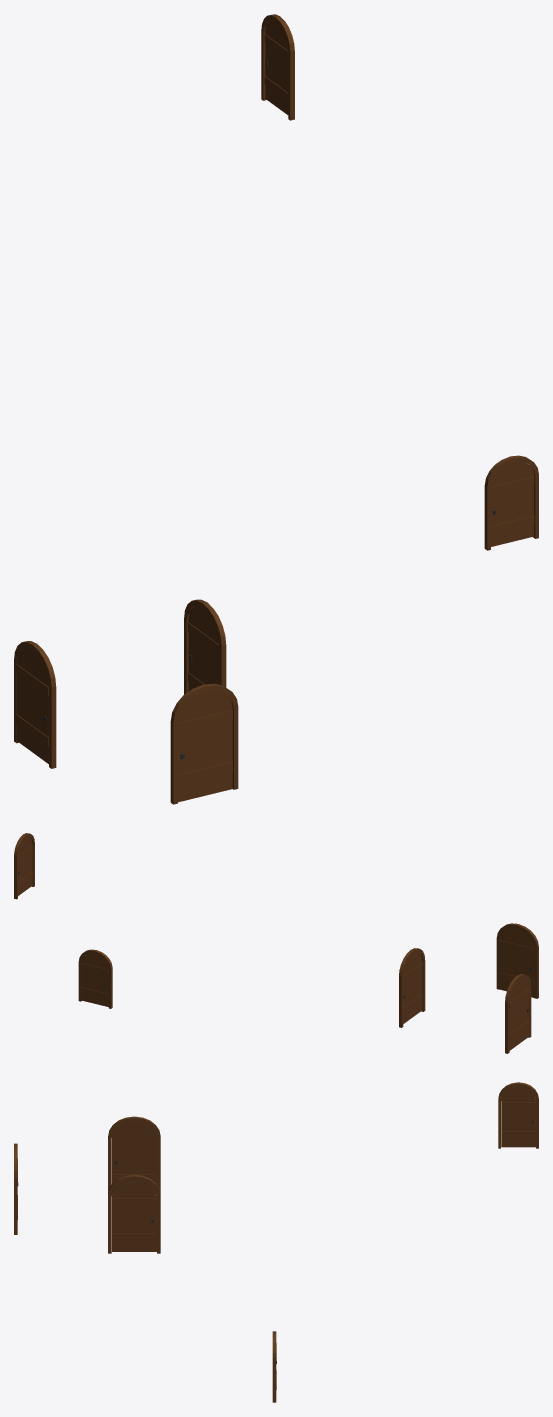
Rendered from hauntedcastle_passable.glb.
The picture shows the model from 3 angles, top to bottom: view 1: azimuth 30°, elevation 25°; view 2: azimuth 150°, elevation 25°; view 3: azimuth 270°, elevation 25°; orthographic projection. The views are drawn at different scales.
Visible parts, largest first — view 1: Keep.Level1.Door_passable, Keep.Level1.Doorframe_passable.003, Keep.Level1.Doorframe_passable.002, Keep.Level1.Doorframe_passable.001, Keep.Level1.Doorframe_passable.004, Keep.Level1.Doorframe_passable; view 2: Keep.Level1.Door_passable, Keep.Level1.Doorframe_passable.002, Keep.Level1.Doorframe_passable.003, Keep.Level1.Doorframe_passable.001, Keep.Level1.Doorframe_passable.004, Keep.Level1.Doorframe_passable; view 3: Keep.Level1.Doorframe_passable.001, Keep.Level1.Doorframe_passable.003, Keep.Level1.Doorframe_passable.004.
Boxes of the visible parts, left/top/right/bottom form: Keep.Level1.Door_passable: left=178, top=691, right=232, bottom=802; Keep.Level1.Doorframe_passable.003: left=14, top=641, right=56, bottom=768; Keep.Level1.Doorframe_passable.002: left=484, top=455, right=538, bottom=550; Keep.Level1.Doorframe_passable.001: left=184, top=599, right=226, bottom=694; Keep.Level1.Doorframe_passable.004: left=261, top=14, right=294, bottom=120; Keep.Level1.Doorframe_passable: left=170, top=683, right=238, bottom=804; Keep.Level1.Door_passable: left=499, top=928, right=534, bottom=997; Keep.Level1.Doorframe_passable.002: left=78, top=949, right=112, bottom=1008; Keep.Level1.Doorframe_passable.003: left=505, top=974, right=531, bottom=1053; Keep.Level1.Doorframe_passable.001: left=399, top=948, right=425, bottom=1027; Keep.Level1.Doorframe_passable.004: left=14, top=833, right=34, bottom=899; Keep.Level1.Doorframe_passable: left=496, top=923, right=538, bottom=998; Keep.Level1.Doorframe_passable.001: left=108, top=1174, right=160, bottom=1253; Keep.Level1.Doorframe_passable.003: left=108, top=1116, right=160, bottom=1193; Keep.Level1.Doorframe_passable.004: left=498, top=1082, right=538, bottom=1148.
Bounding box in the file's own units: 21.02 × 13.73 × 22.5.
4 materials, 4 textured.
